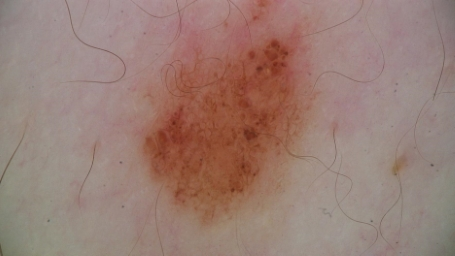melanoma: (139, 38, 298, 226)
